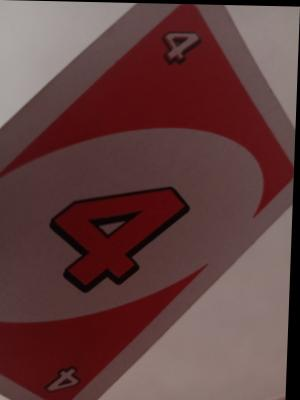num_4: (158, 22, 208, 68), (43, 358, 88, 400)
